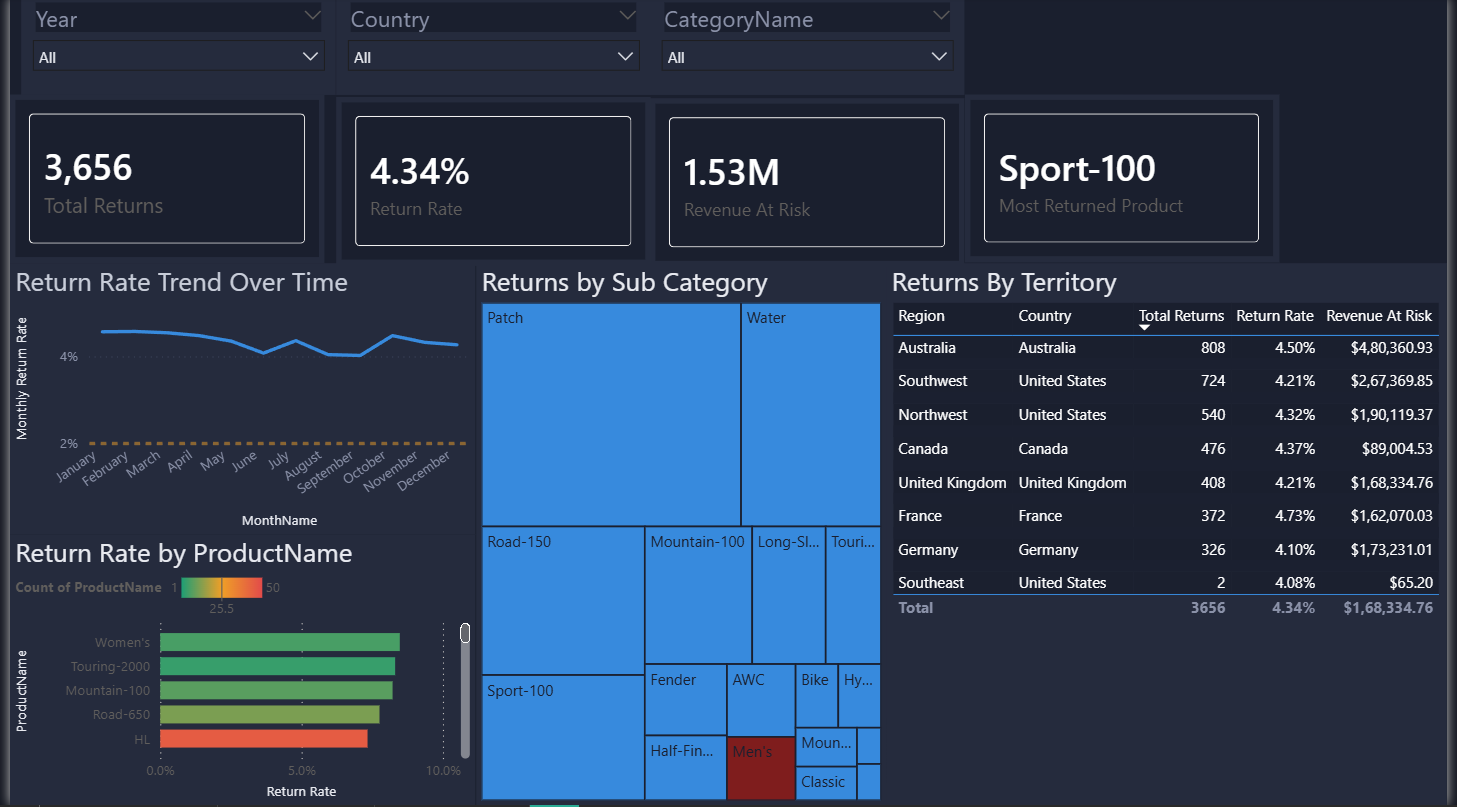

Layout of this report page (visuals, bound fields, positions):
{"tool":"powerbi","page":{"name":"Return Analysis","canvas":[1280,720],"ordinal":2},"visuals":[{"type":"slicer","fields":{"Values":["gold extcalendar.Year"]},"box":[10,0,280,87.1],"z":0},{"type":"slicer","fields":{"Values":["gold extterritories.Country"]},"box":[290,0,280,87.1],"z":1000},{"type":"slicer","fields":{"Values":["gold extsubcategories.CategoryName"]},"box":[570,0,280,87.1],"z":2000},{"type":"cardVisual","fields":{"Data":["table_measure.Total Returns"]},"box":[0,87.1,280,150],"z":3000},{"type":"cardVisual","fields":{"Data":["table_measure.Revenue At Risk"]},"box":[570,90,280,150],"z":4000},{"type":"cardVisual","fields":{"Data":["table_measure.Most Returned Product"]},"box":[850.3,87.1,279.8,149.7],"z":5000},{"type":"cardVisual","fields":{"Data":["table_measure.Return Rate"]},"box":[290,88.6,280,150],"z":6000},{"type":"lineChart","title":"Return Rate Trend Over Time","fields":{"Category":["gold extcalendar.MonthName"],"Y":["table_measure.Monthly Return Rate"]},"box":[0,236.8,414.7,241.7],"z":7000},{"type":"treemap","title":"Returns by Sub Category","fields":{"Group":["gold extsubcategories.CategoryName"],"Values":["table_measure.Total Returns"]},"box":[414.7,236.8,365.6,483.4],"z":8000},{"type":"clusteredBarChart","fields":{"Category":["gold extproducts.ProductName"],"Y":["table_measure.Return Rate"]},"box":[0,478.5,414.7,241.7],"z":9000},{"type":"tableEx","title":"Returns By Territory","fields":{"Values":["gold extterritories.Region","gold extterritories.Country","table_measure.Total Returns by Territory","table_measure.Return Rate by Territory","table_measure.Revenue At Risk by Territory"]},"box":[780.4,236.8,499.4,483.4],"z":10000}]}

Visuals, with their boxes in screenshot pixels (x1, y1, x2, y2), scaled from the page's 1280x720 canvas onto the 1457x807 screenshot:
slicer - gold extcalendar.Year: 11:0:330:98
slicer - gold extterritories.Country: 330:0:649:98
slicer - gold extsubcategories.CategoryName: 649:0:968:98
cardVisual - table_measure.Total Returns: 0:98:319:266
cardVisual - table_measure.Revenue At Risk: 649:101:968:269
cardVisual - table_measure.Most Returned Product: 968:98:1286:265
cardVisual - table_measure.Return Rate: 330:99:649:267
"Return Rate Trend Over Time" lineChart: 0:265:472:536
"Returns by Sub Category" treemap: 472:265:888:806
clusteredBarChart - gold extproducts.ProductName x table_measure.Return Rate: 0:536:472:806
"Returns By Territory" tableEx: 888:265:1456:806
